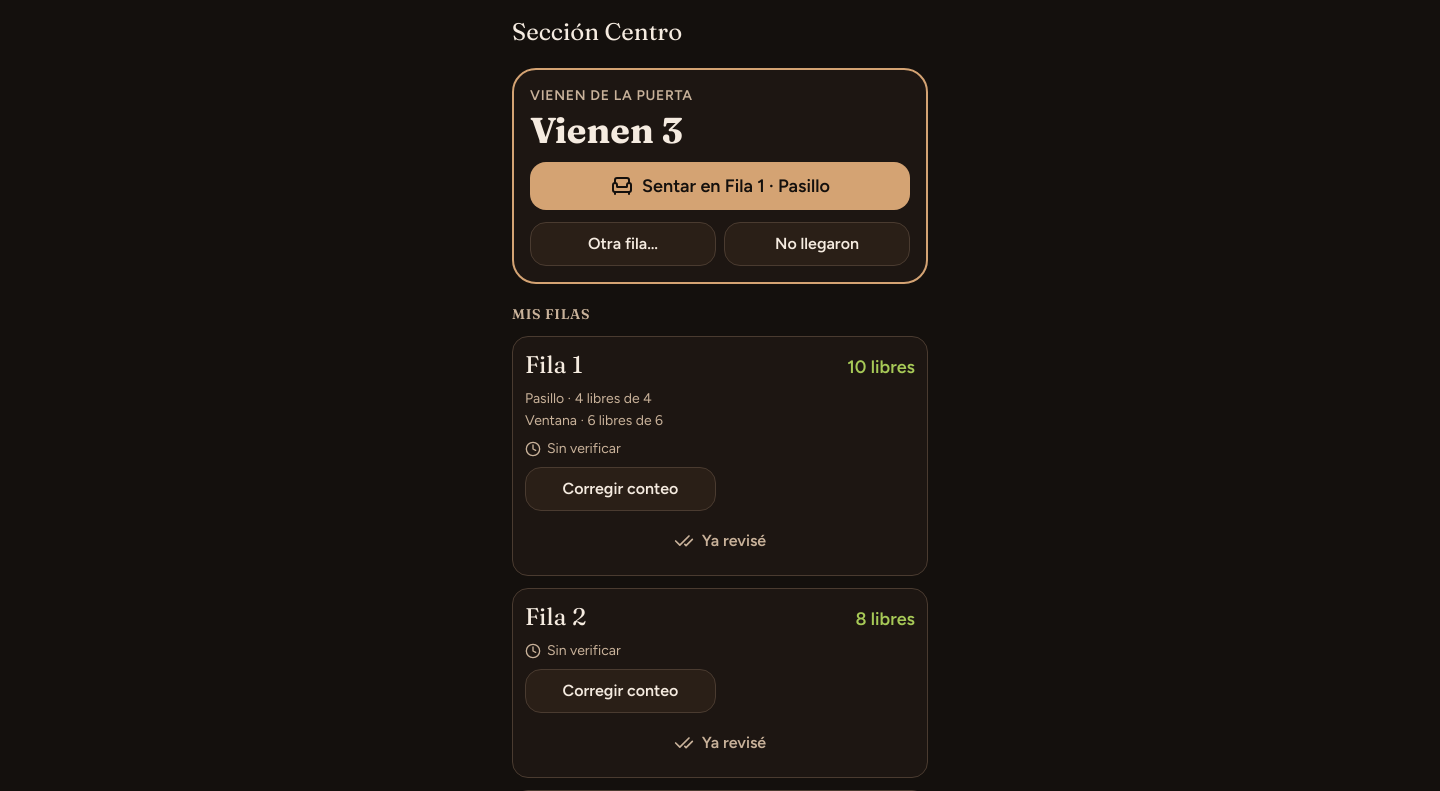
Scenario: PendienteCard / sentar › fila sugerida con dos tramos públicos: el botón nombra el tramo y 'Otra fila…' deja elegir otro
Expected: the button "Sentar en Fila 1 · Pasillo" is shown, [530,162,910,210]
Click the button "Otra fila…".
click(623, 244)  # box [530,222,716,266]
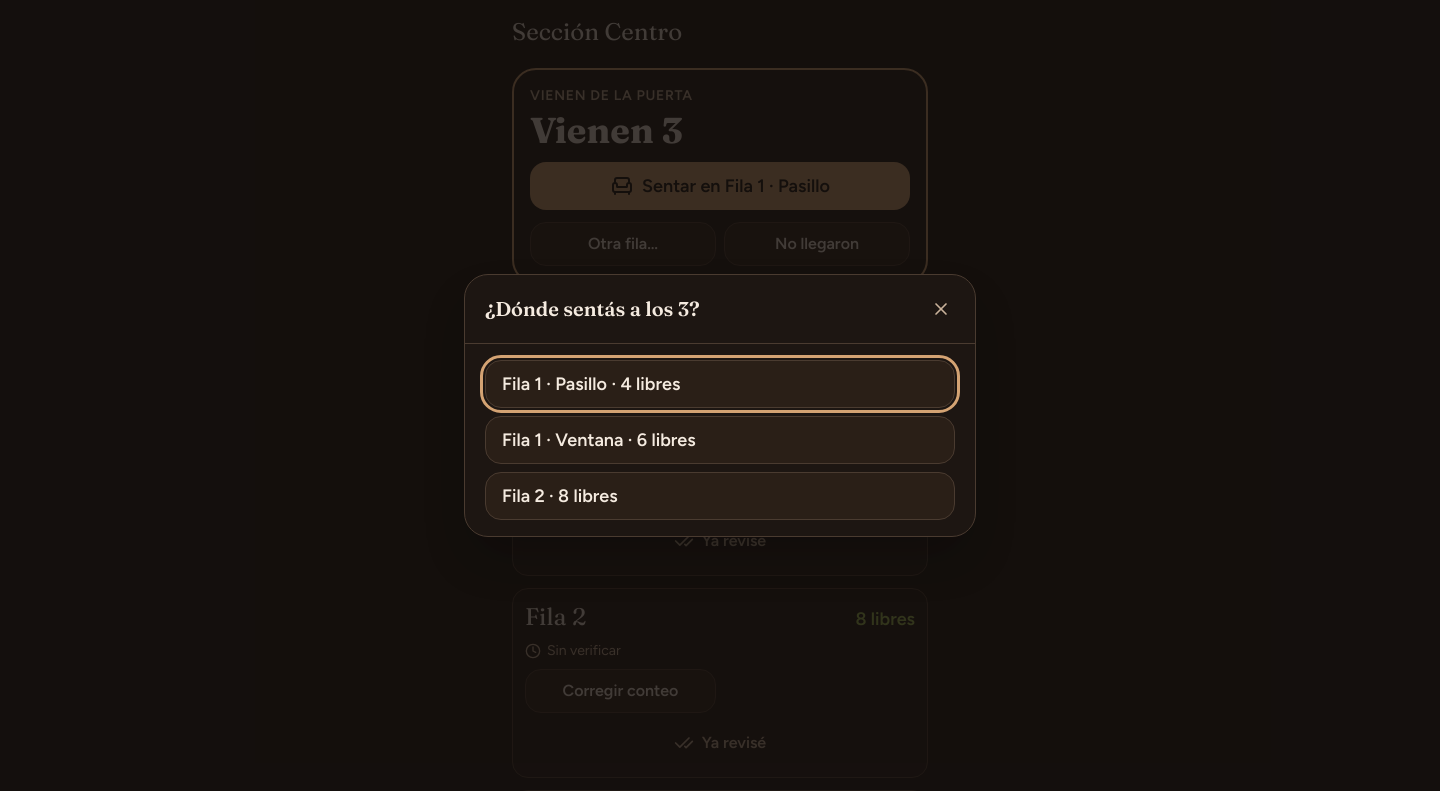
Click the button "Fila 1 · Ventana · 6 libres".
click(599, 440)  # box [485,416,955,464]
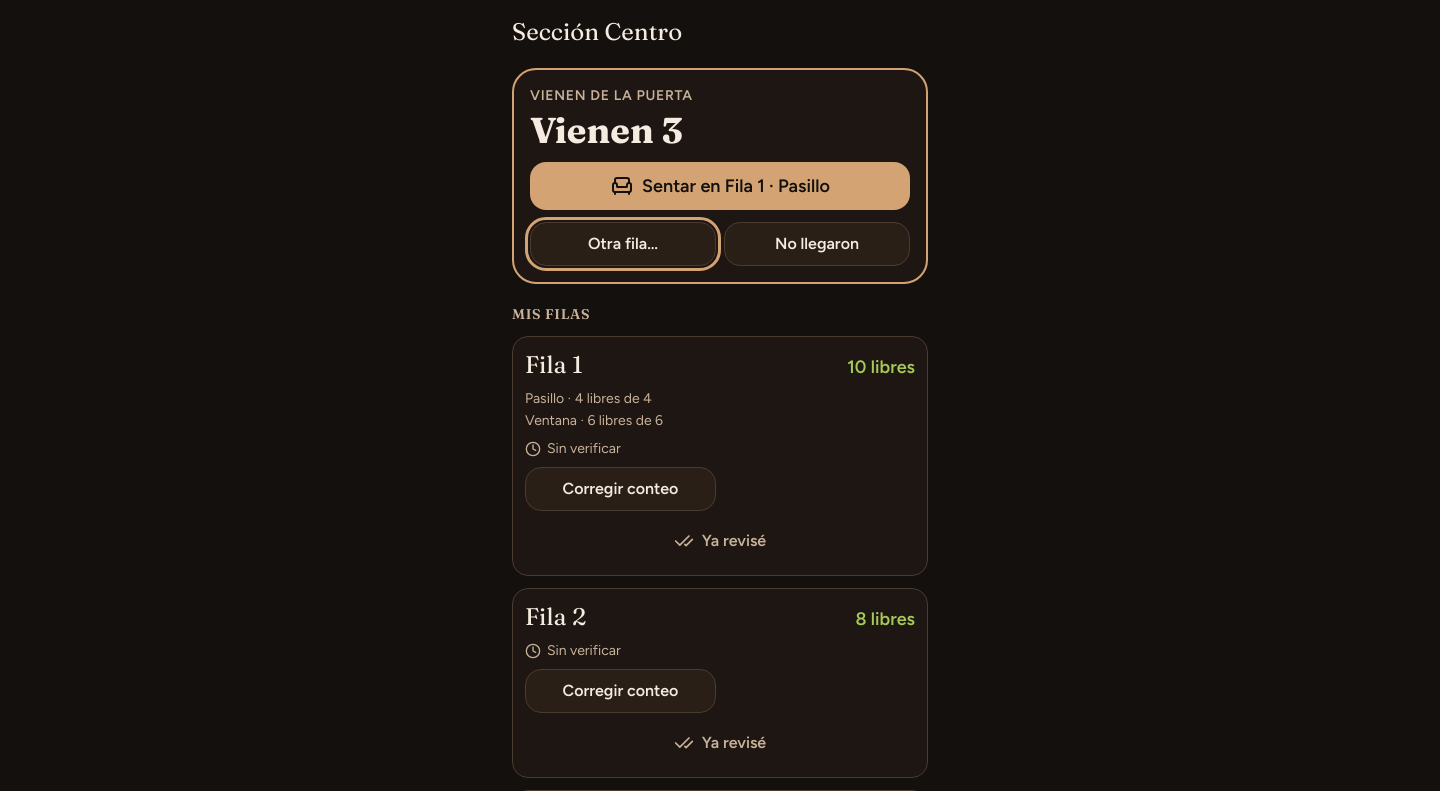
Now the dialog is gone
